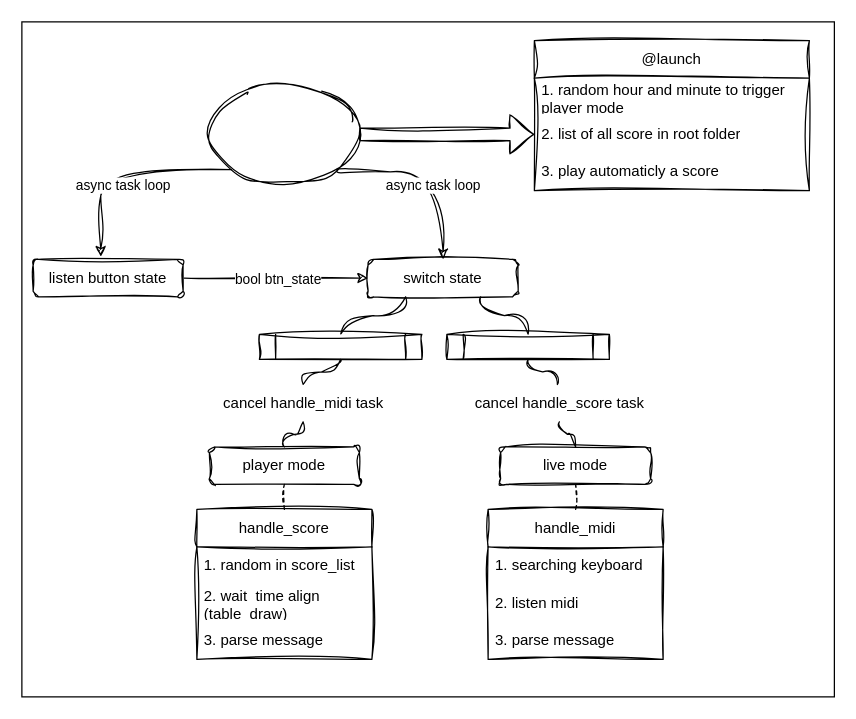
The diagram is 856 pixels wide and 719 high, and some of its shapes have lost their labels. Here are the shapes that lost their labels. From the top down, the centre of each, then its label:
At [283,133]: "main.py".
At [340,346]: "btn_state == False".
At [527,346]: "btn_state == True".
